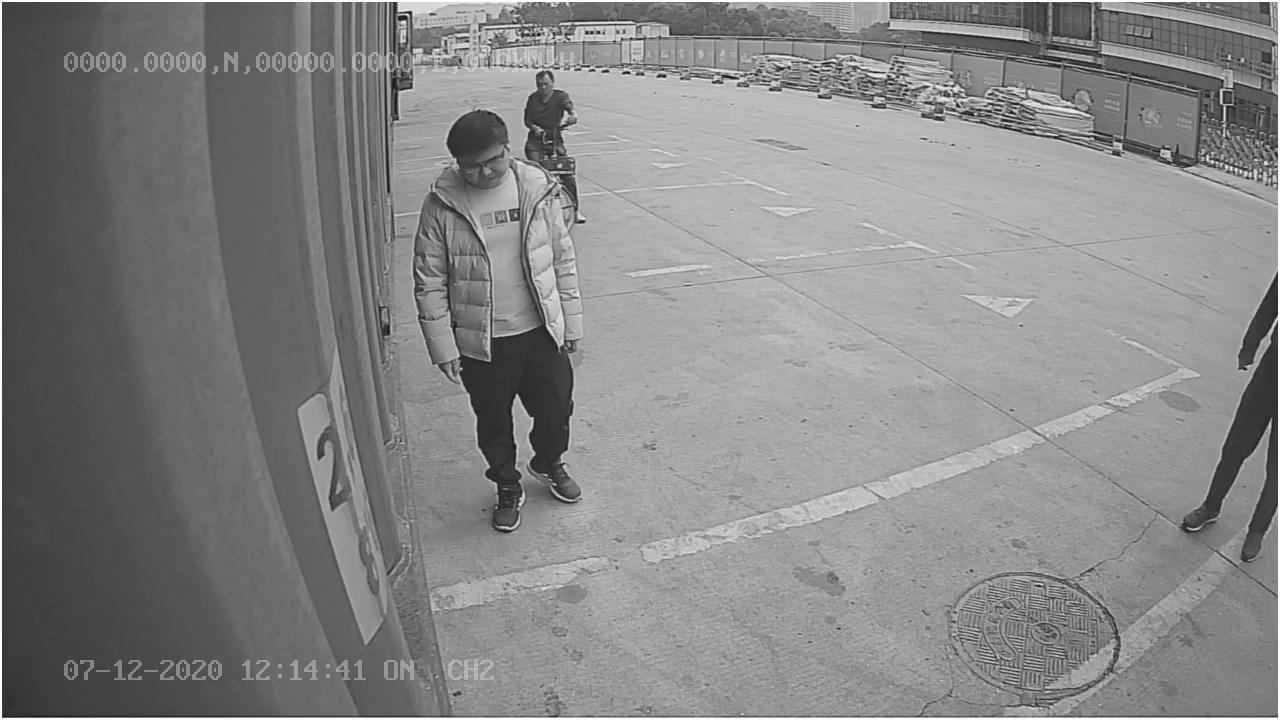person: (414, 108, 583, 530)
